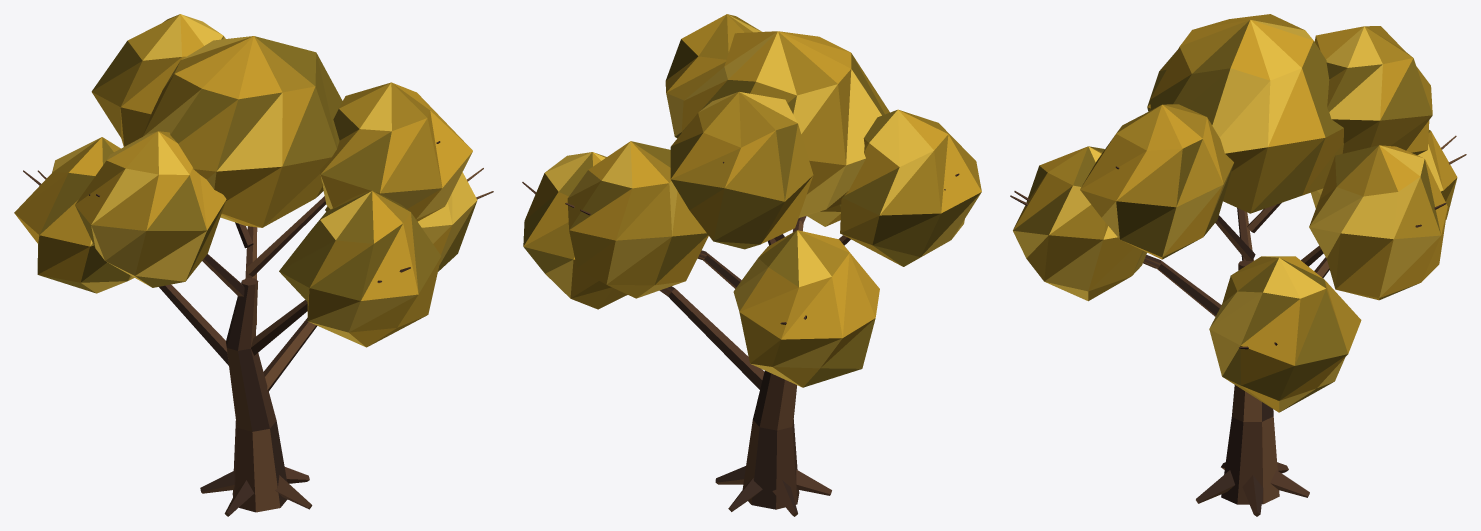
File: tree_maple_gold.obj
3 renders of one model, left to right at view 1: azimuth 30°, elevation 25°; view 2: azimuth 150°, elevation 25°; view 3: azimuth 270°, elevation 25°, orthographic.
Parts seen in each view (by area): view 1: tree_maple_gold; view 2: tree_maple_gold; view 3: tree_maple_gold.
Boxes of the visible parts, x1,y1,x2,y2 form: tree_maple_gold: (14, 14, 493, 516); tree_maple_gold: (522, 14, 981, 516); tree_maple_gold: (1010, 14, 1466, 516).
Size of the model in its own units: 439 by 460 by 402.
1 material, 1 textured.
